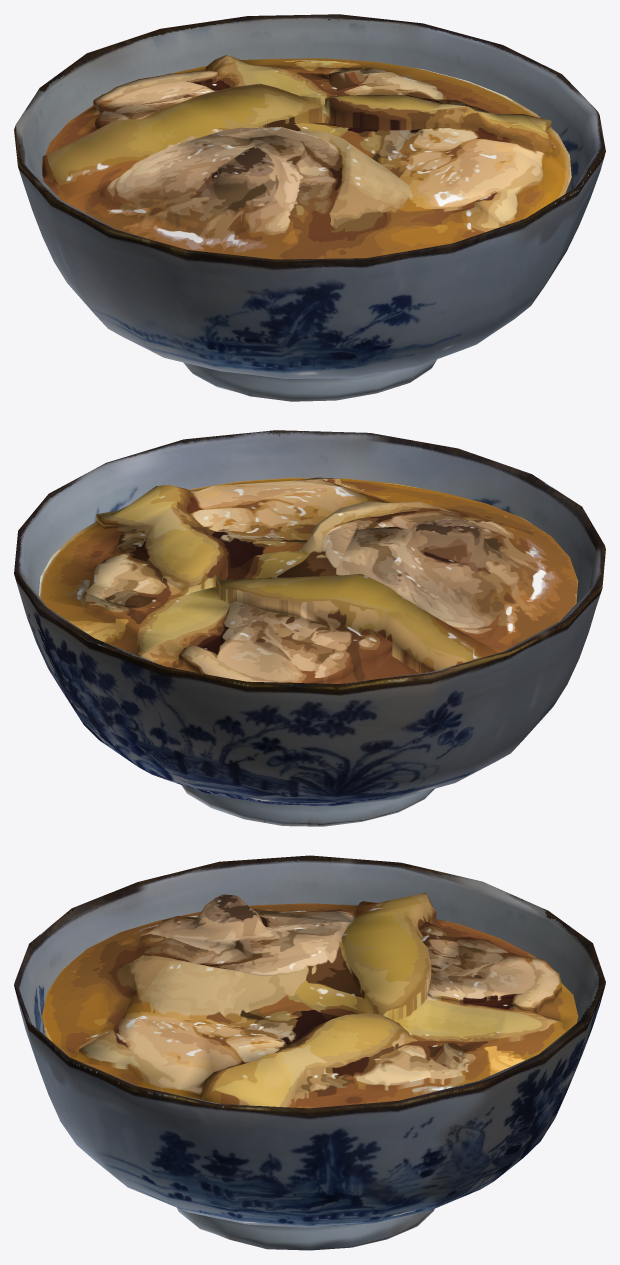
File: MaYoGee.fbx
3 views of the same model, one above another, from view 1: azimuth 30°, elevation 25°; view 2: azimuth 150°, elevation 25°; view 3: azimuth 270°, elevation 25° (orthographic).
Visible parts, largest first — view 1: MaYoGee.001; view 2: MaYoGee.001; view 3: MaYoGee.001.
Part boxes in pixels (x1,y1,x2,y2): MaYoGee.001: (14,14,605,401); MaYoGee.001: (14,430,605,826); MaYoGee.001: (14,855,605,1250).
Size of the model in its own units: 18.4 by 8.19 by 18.23.
